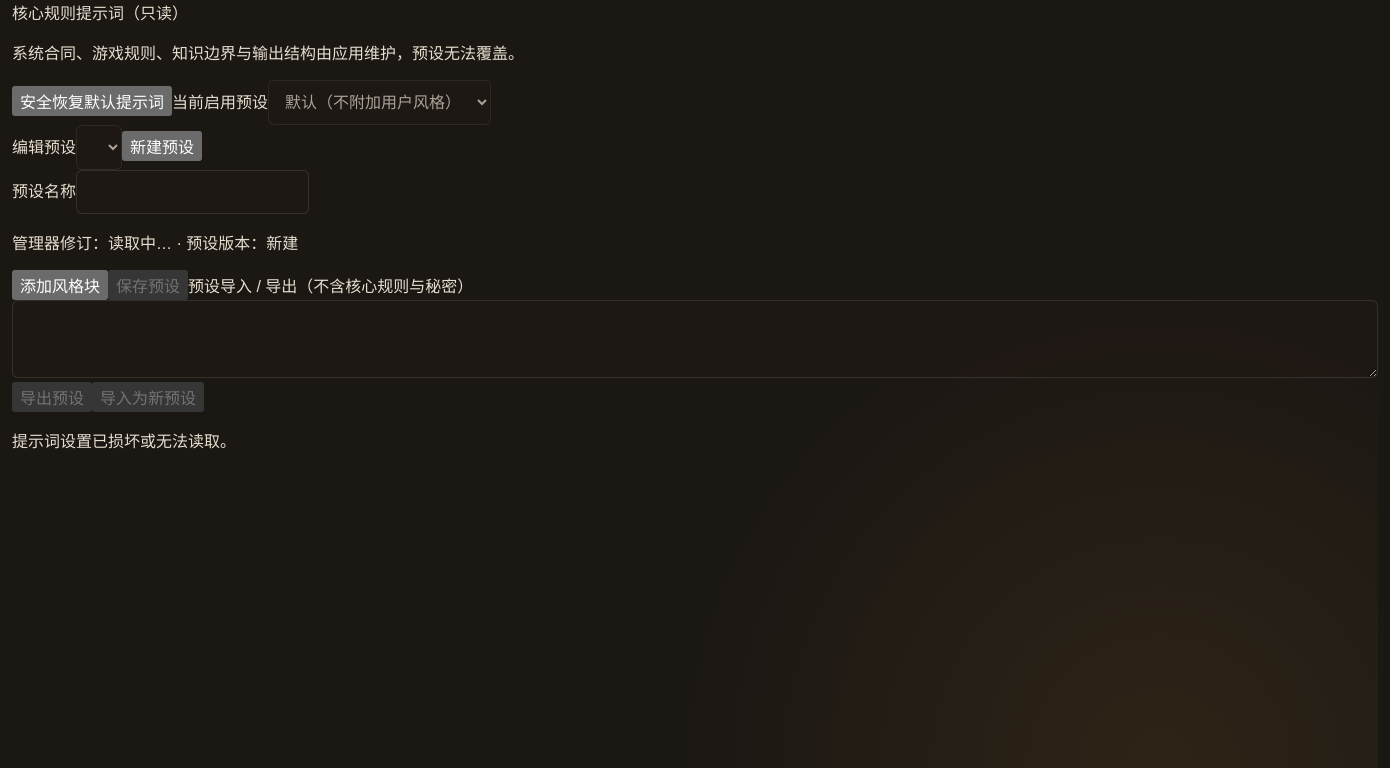
PromptManagerPanel › offers a fail-closed recovery path for a malformed stored snapshot
expect the text "提示词设置已损坏或无法读取。" is shown: met, box top-left (12, 433), bottom-right (236, 450)
Click the button "安全恢复默认提示词".
click(92, 101)  # box top-left (12, 86), bottom-right (172, 116)
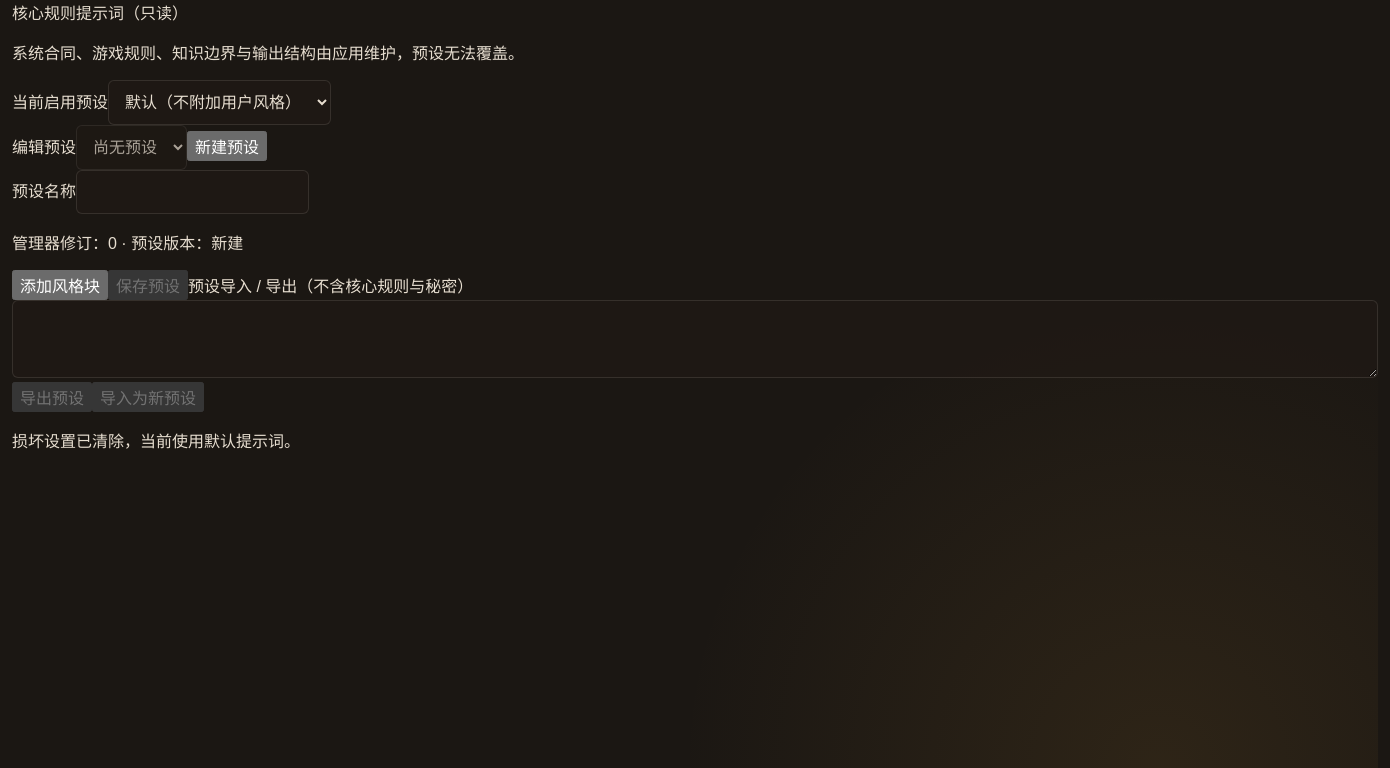
expect the text "损坏设置已清除，当前使用默认提示词。" is shown: met, box top-left (12, 433), bottom-right (300, 450)
